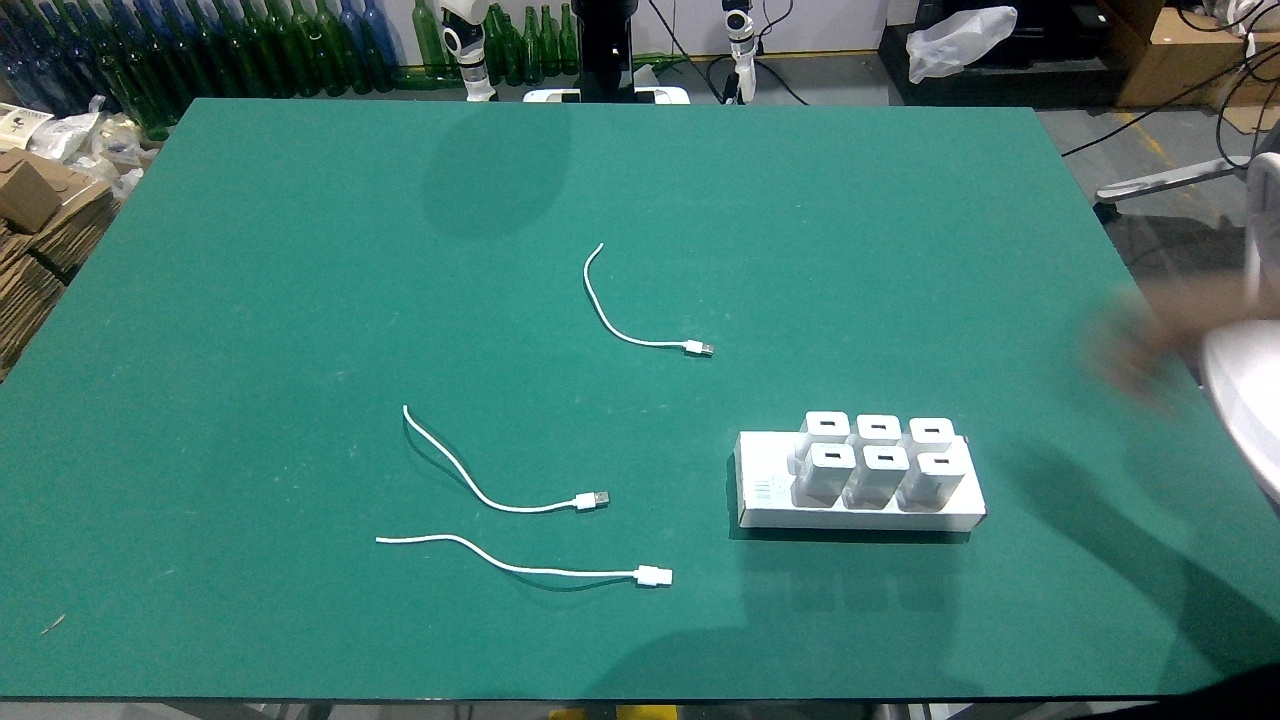usb_a_port: (874, 452, 898, 464), (869, 420, 889, 432), (932, 455, 952, 467), (817, 416, 836, 428), (822, 449, 843, 459), (920, 427, 943, 436)
